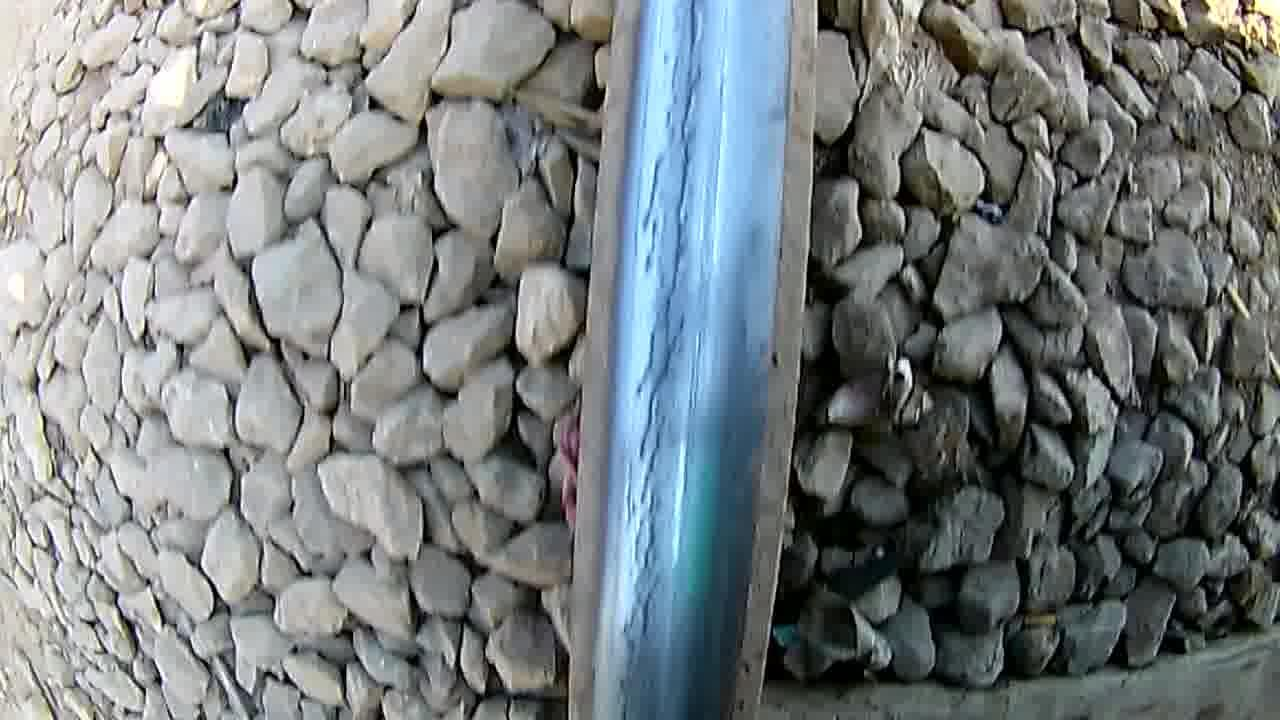normal_track: (616, 1, 726, 720)
